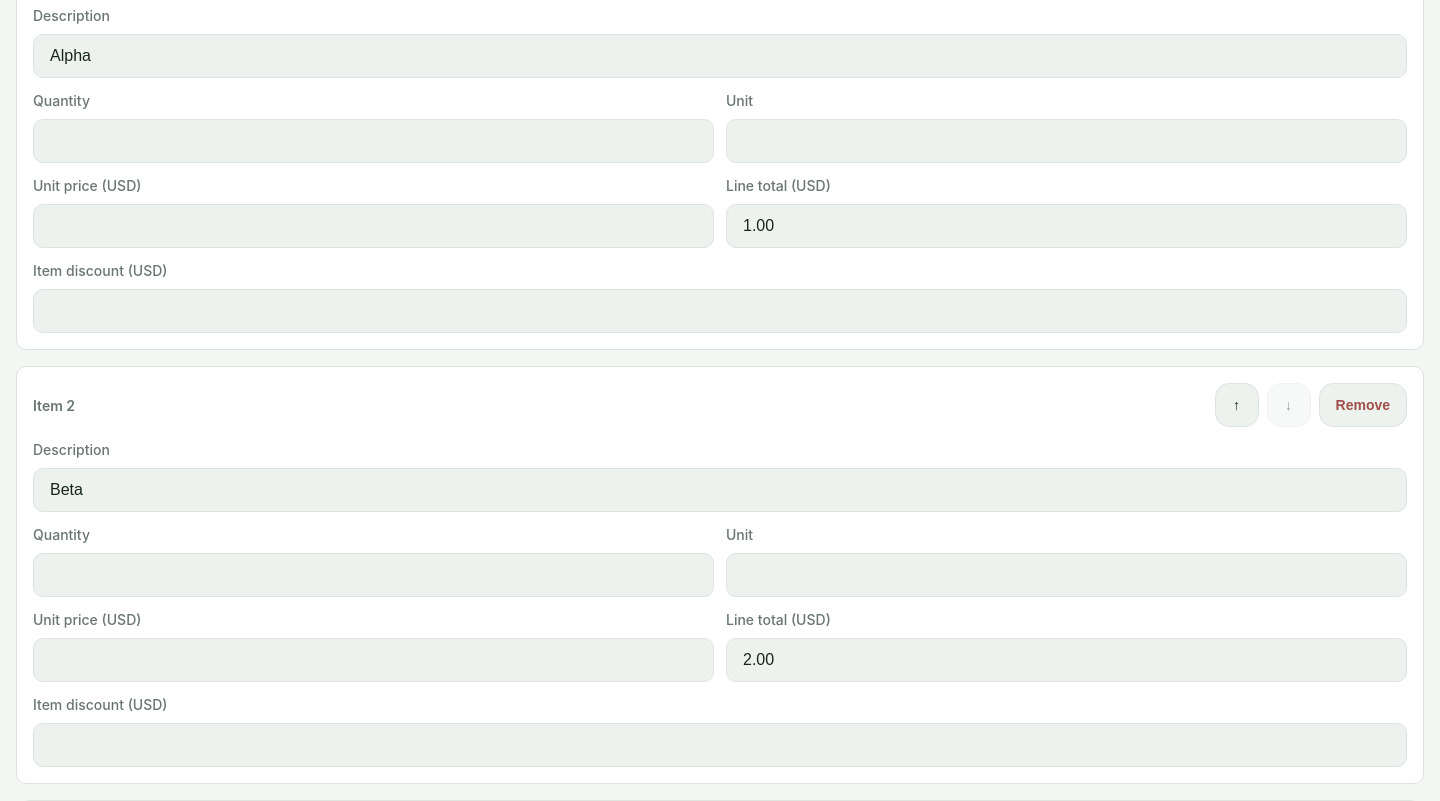
Scenario: HumanReviewForm › moves a line item up when the ↑ button is clicked
(page scrolled)
"Move item 2 up" button
Click the button named "move item 2 up": (1236, 405) [1214, 383, 1258, 427]
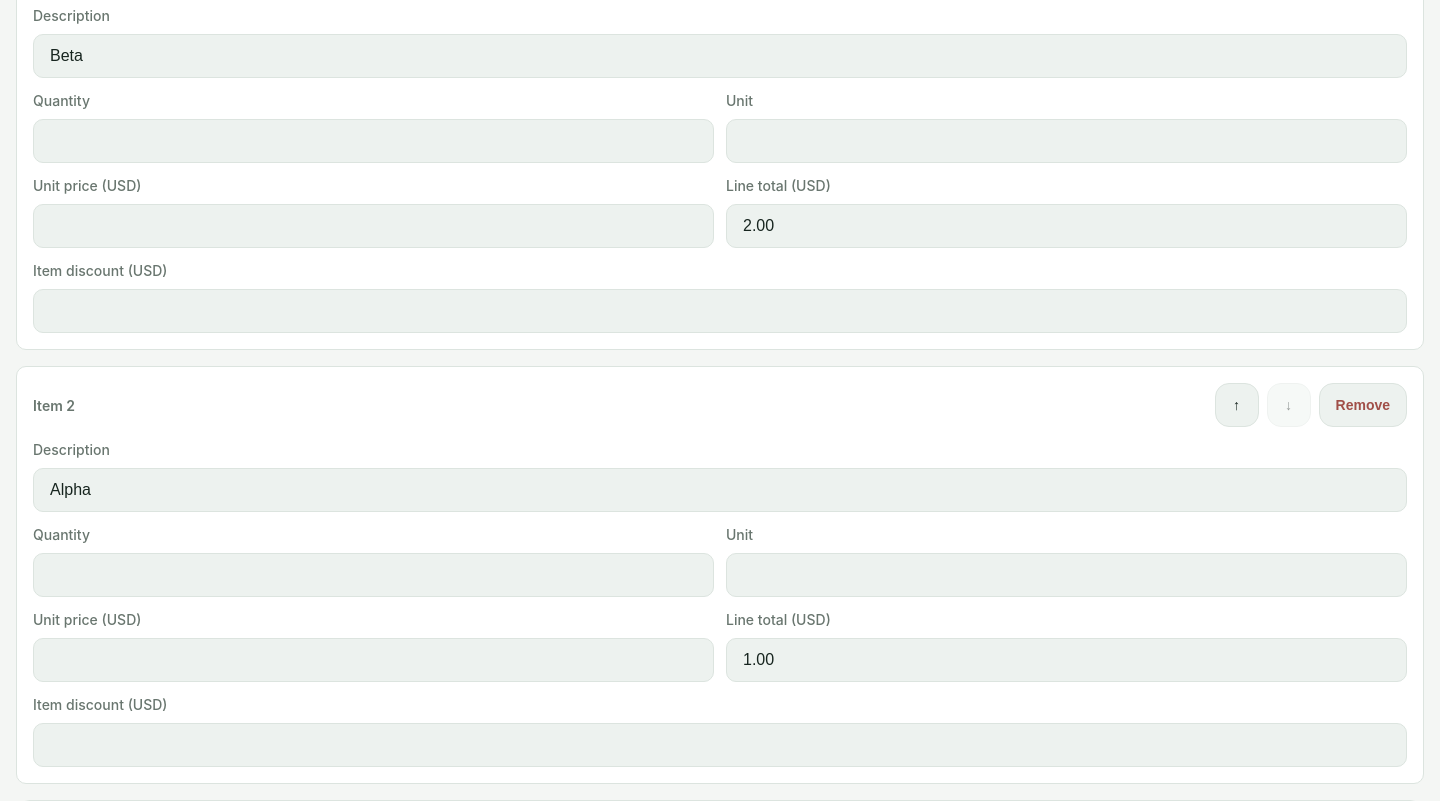
Result: the 1st field labelled "Description" holds "Beta" at [33, 34, 1407, 78]
Result: the 2nd field labelled "Description" holds "Alpha" at [33, 468, 1407, 512]
